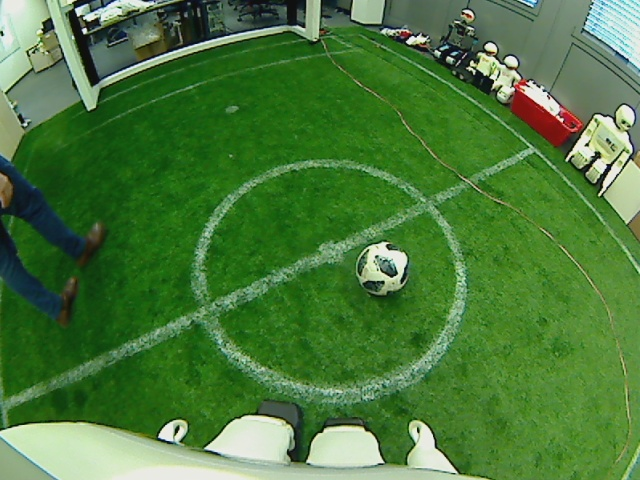ball: (355, 242, 410, 297)
